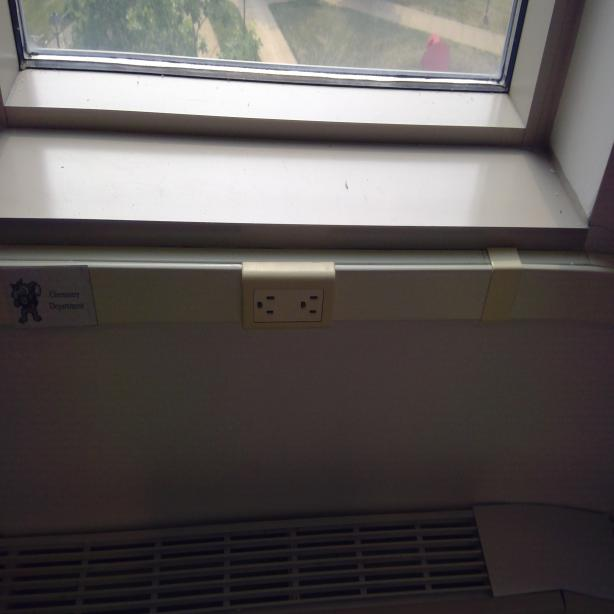typeb: (297, 288, 321, 324), (254, 288, 278, 322)
